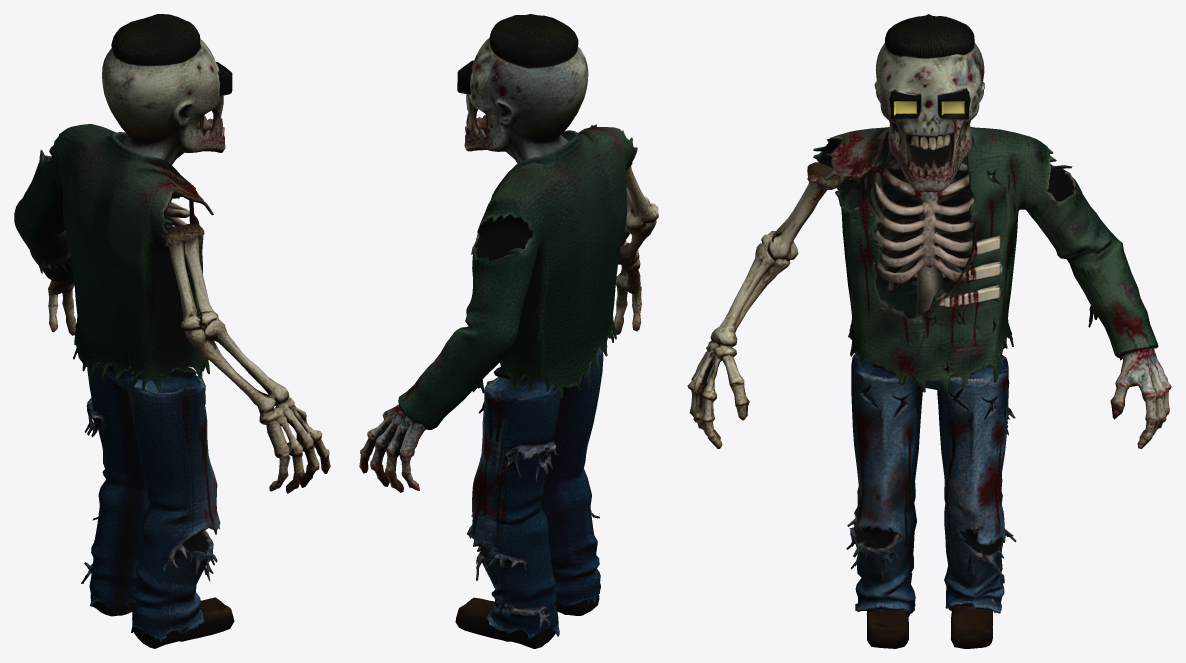
The model's file is zombi_hotd_original_10MB.glb.
3 views of the same model, side by side, from view 1: azimuth 30°, elevation 25°; view 2: azimuth 150°, elevation 25°; view 3: azimuth 270°, elevation 25° (orthographic).
Visible parts, largest first — view 1: tripo_node_ff3ba643-9731-444f-a675-588c7c38c6ee; view 2: tripo_node_ff3ba643-9731-444f-a675-588c7c38c6ee; view 3: tripo_node_ff3ba643-9731-444f-a675-588c7c38c6ee.
Part boxes in pixels (bbox=[...]): tripo_node_ff3ba643-9731-444f-a675-588c7c38c6ee: bbox=[14, 14, 330, 648]; tripo_node_ff3ba643-9731-444f-a675-588c7c38c6ee: bbox=[359, 14, 658, 648]; tripo_node_ff3ba643-9731-444f-a675-588c7c38c6ee: bbox=[687, 14, 1171, 648].
Size of the model in its own units: 0.2347 by 1 by 0.7265.
1 material, 1 textured.
